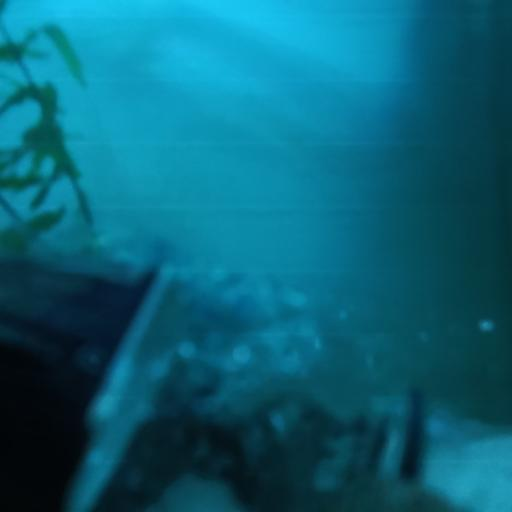plastic_bottle: (0, 219, 452, 511)
